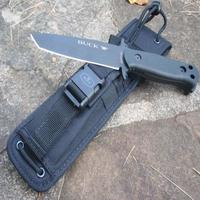knife: (21, 24, 200, 92)
